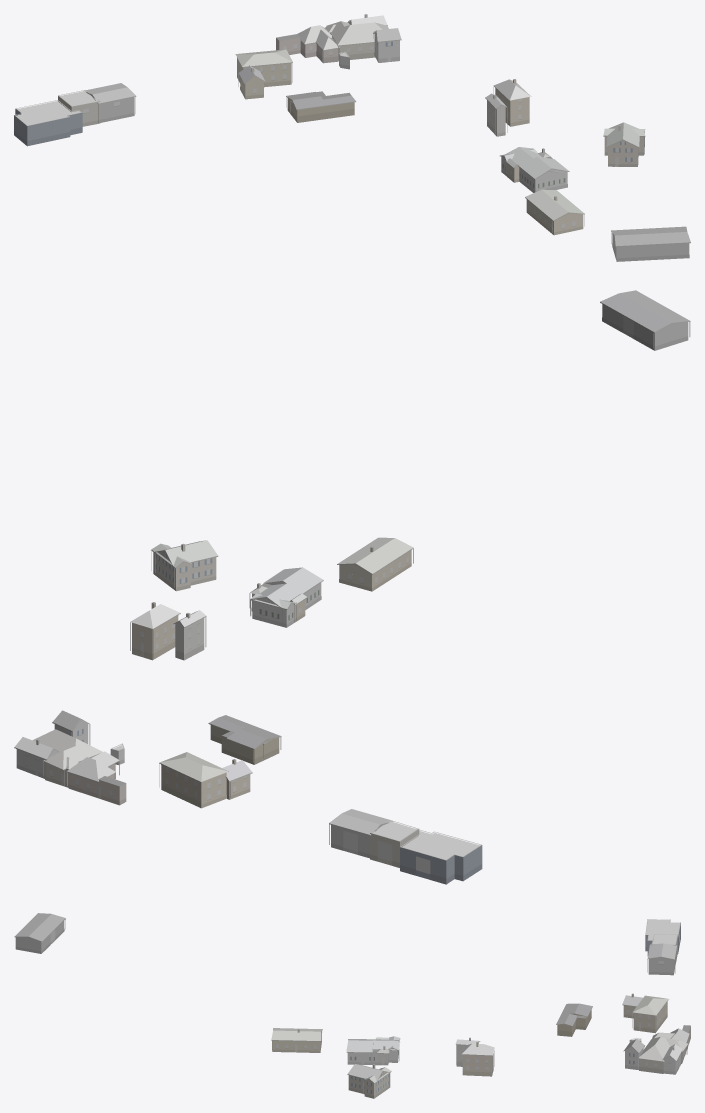
The picture shows the model from 3 angles, top to bottom: view 1: azimuth 30°, elevation 25°; view 2: azimuth 150°, elevation 25°; view 3: azimuth 270°, elevation 25°; orthographic projection. The views are drawn at different scales.
Parts seen in each view (by area): view 1: bld; view 2: bld; view 3: bld.
Part boxes in pixels (x1=…): bld: x1=14, y1=14, x2=690, y2=261; bld: x1=14, y1=290, x2=690, y2=884; bld: x1=14, y1=913, x2=690, y2=1098.
Size of the model in its own units: 140 by 39.07 by 229.
